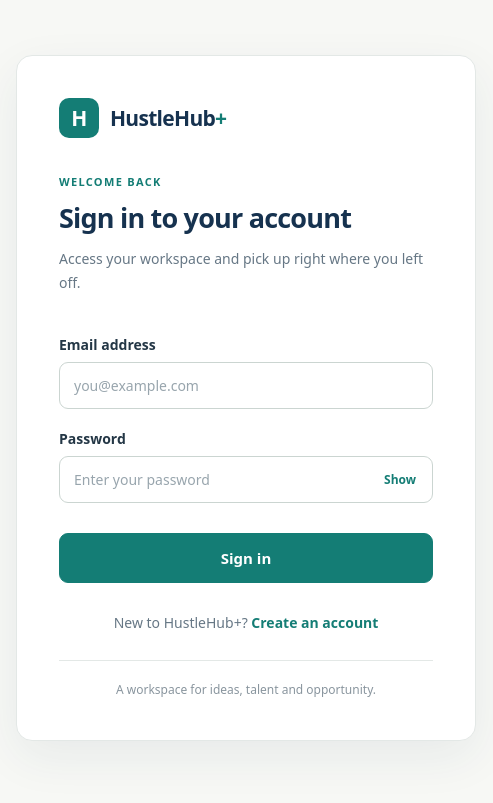
Test: LoginPage › falls back to a general message when the server gives none
Step 1. Type "freya@example.com" into the field labelled "Email address" → [246, 385], box [59,362,433,409]
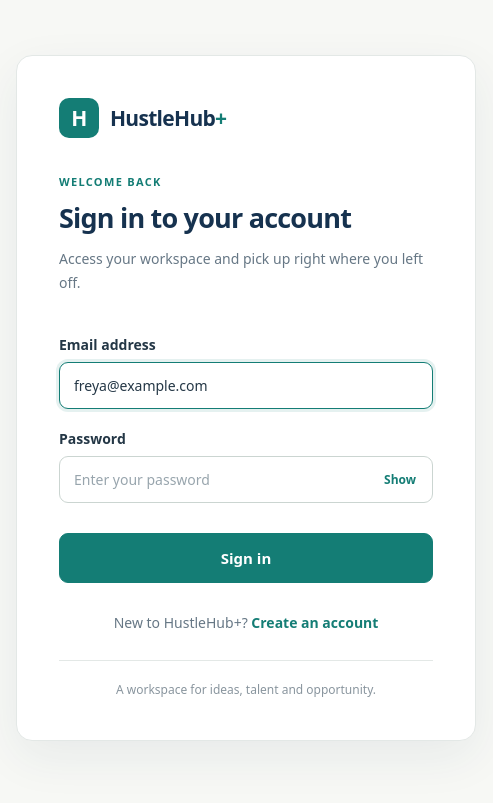
Step 2. Type "Hustle#2026pass" into the password field labelled "Password" → [246, 479], box [59,456,433,503]
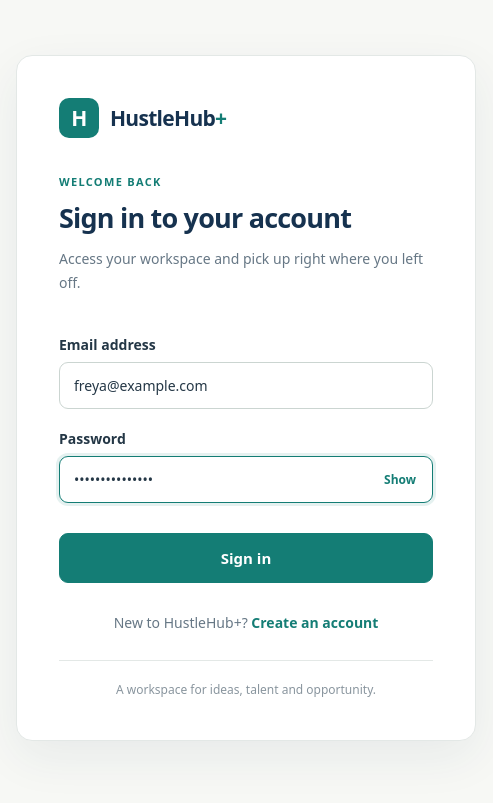
Step 3. Click the button "Sign in" → [246, 558], box [59,533,433,583]
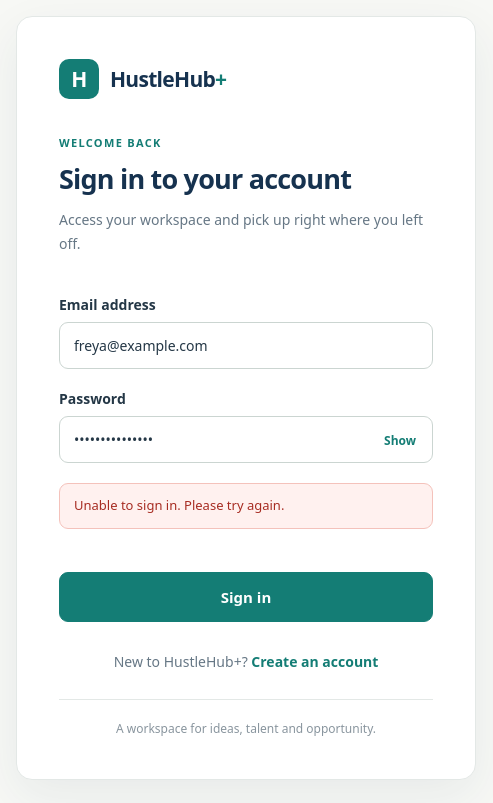
Expected: the message reads "Unable to sign in. Please try again.", [74,496,284,514]
